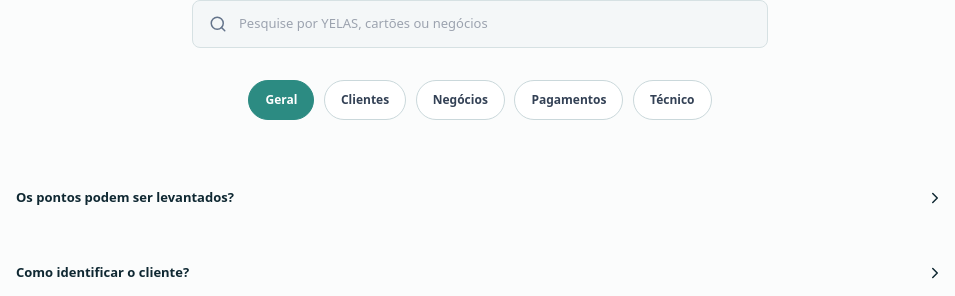
Test case: NEW PHAS public interactions › searches and filters help content
Type "QR" into the search field at (495, 24), box top-left (239, 14), bottom-right (751, 34)
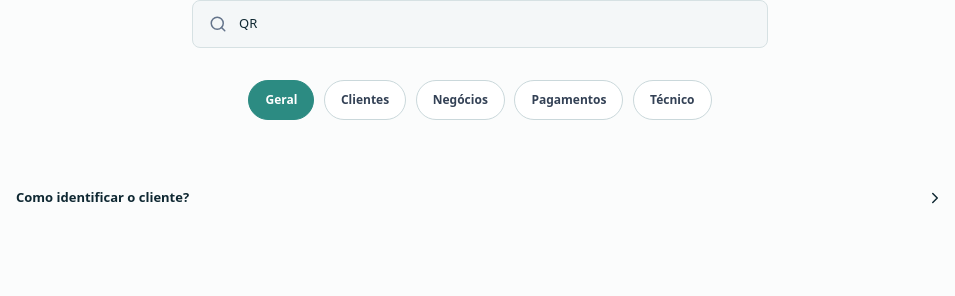
Check: the text "Como identificar o cliente?" is shown, box top-left (16, 188), bottom-right (189, 207)
Check: the heading "Os pontos podem ser levantados?" is gone
